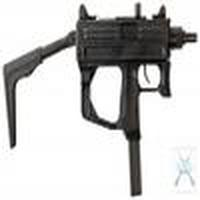gun: (1, 8, 196, 181)
